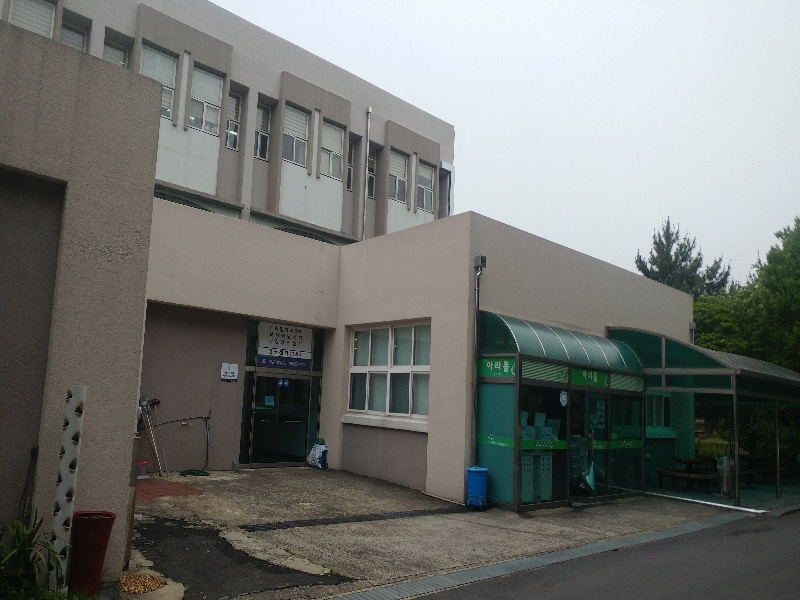Ara Hall: (340, 234, 695, 496), (478, 314, 651, 489)
Main Building: (3, 24, 502, 238)
